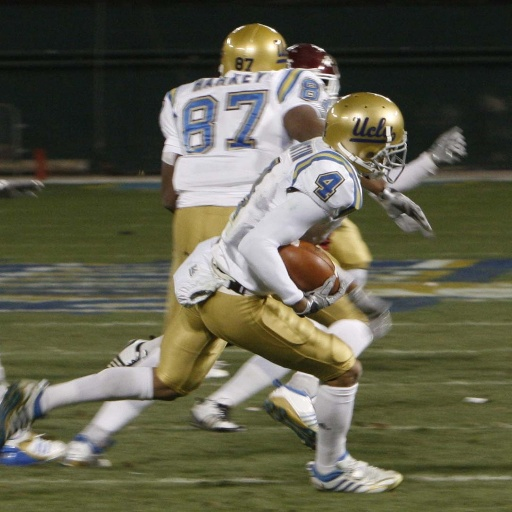hand: (371, 189, 430, 236), (304, 272, 352, 313), (426, 126, 467, 164)
